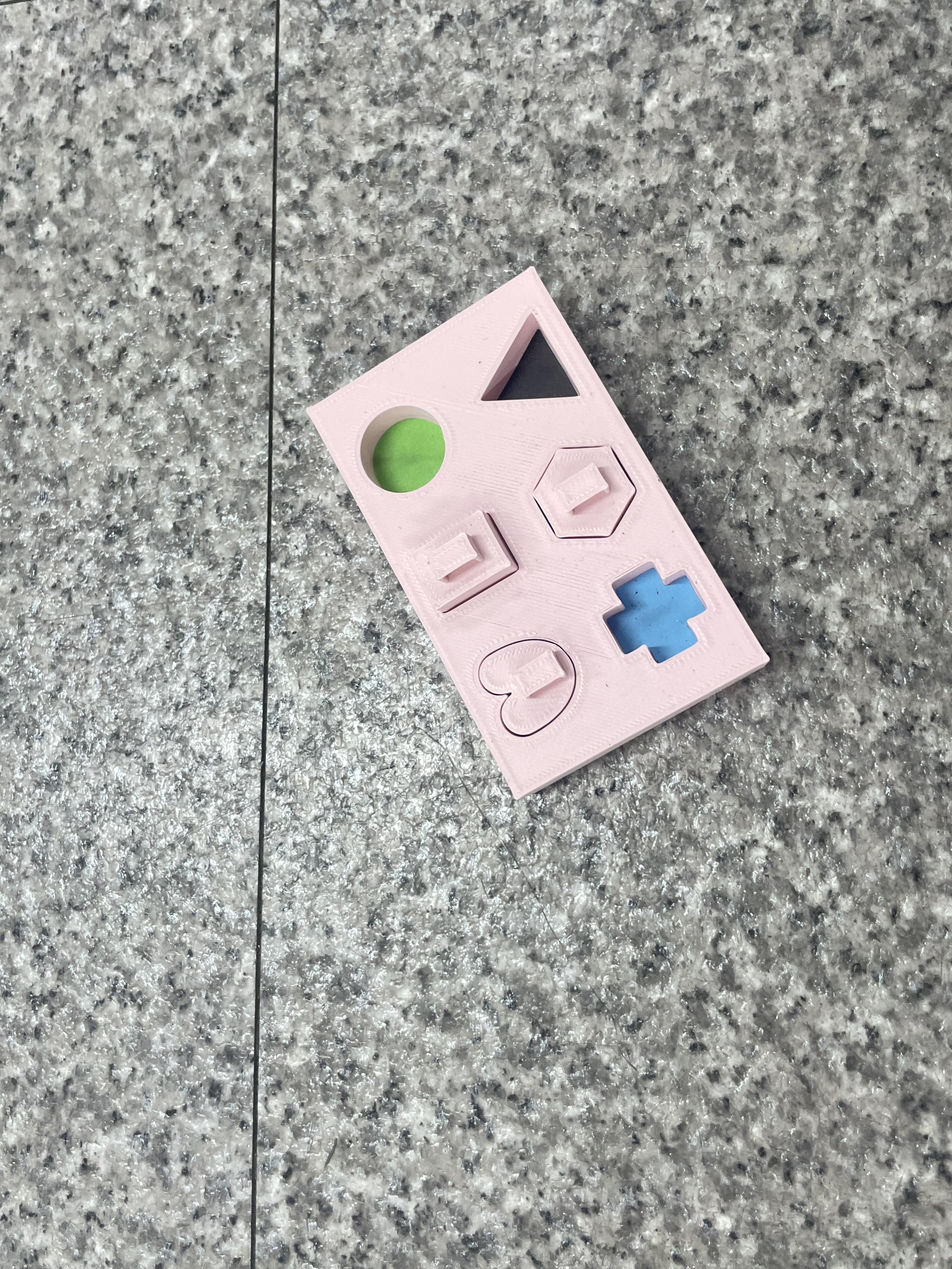unsolved: (299, 252, 780, 805)
